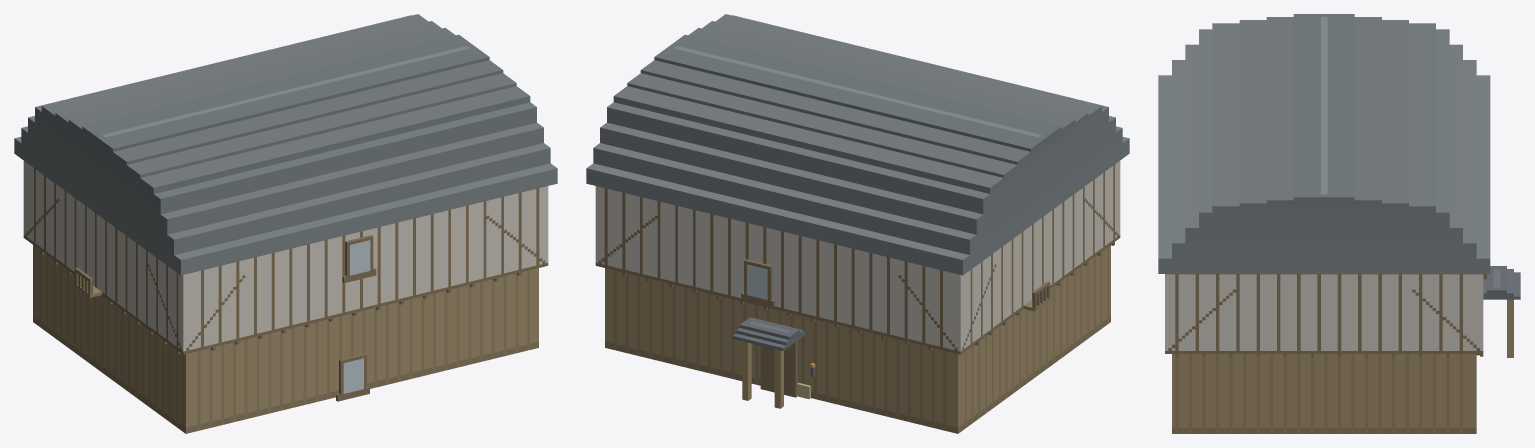
The model's file is casa_noble_03.glb.
3 views of the same model, side by side, from view 1: azimuth 30°, elevation 25°; view 2: azimuth 150°, elevation 25°; view 3: azimuth 270°, elevation 25° (orthographic).
Parts seen in each view (by area): view 1: casa_noble_03; view 2: casa_noble_03; view 3: casa_noble_03.
Part boxes in pixels (box(x1,y1,x2,y2)): casa_noble_03: box(14, 14, 557, 433); casa_noble_03: box(586, 14, 1129, 433); casa_noble_03: box(1158, 14, 1520, 433).
Size of the model in its own units: 13 by 8 by 10.7.
